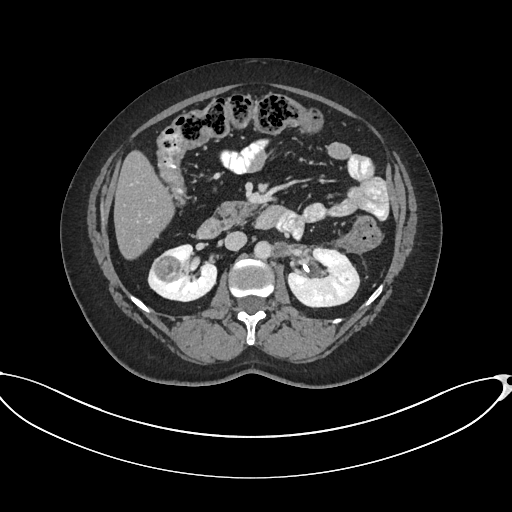Lesion: (151, 253, 186, 284)
